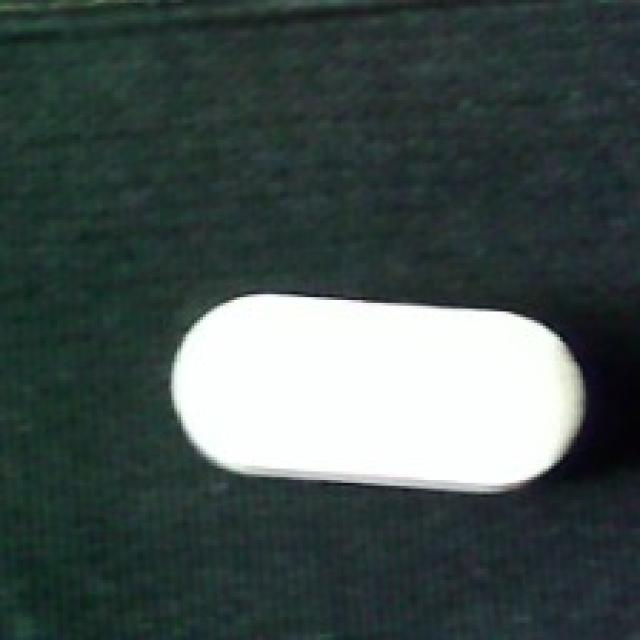no-defect: (166, 289, 588, 497)
